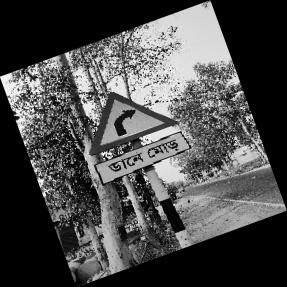Right-turn: (88, 92, 191, 187)
